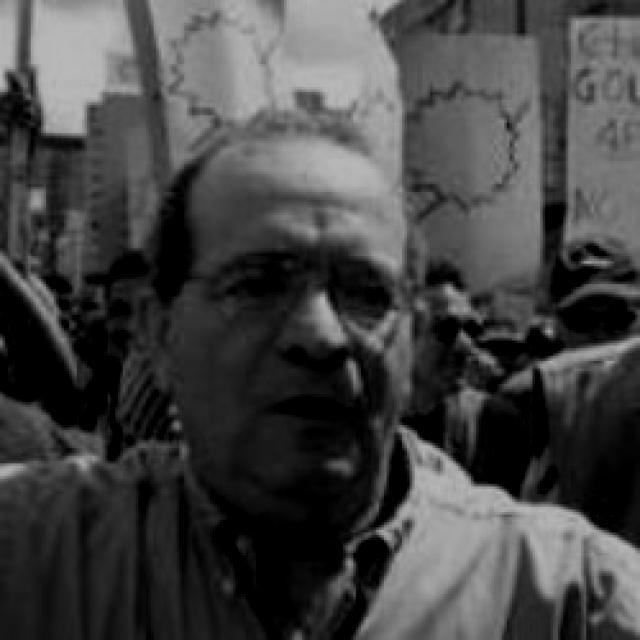real: (177, 142, 413, 494), (206, 248, 394, 324)
